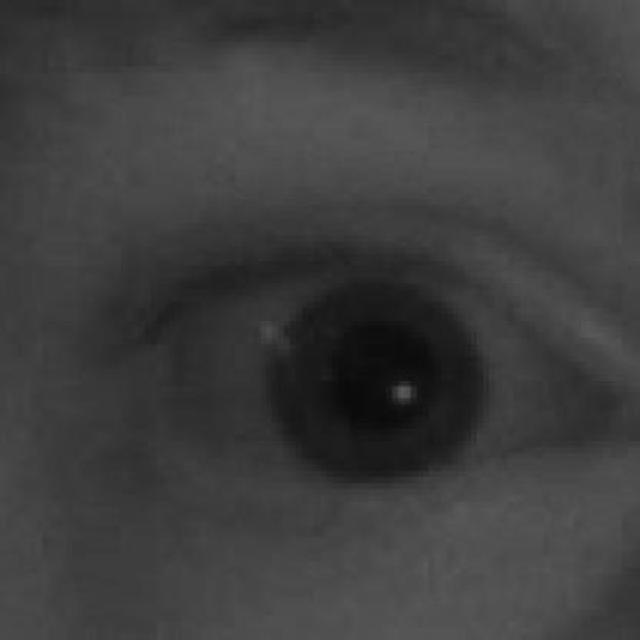awake: (130, 218, 639, 504)
